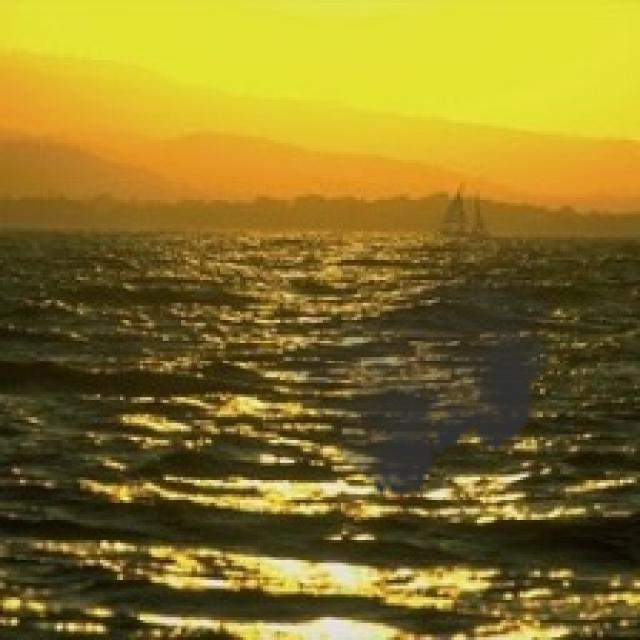Smoke: (277, 226, 557, 508)
